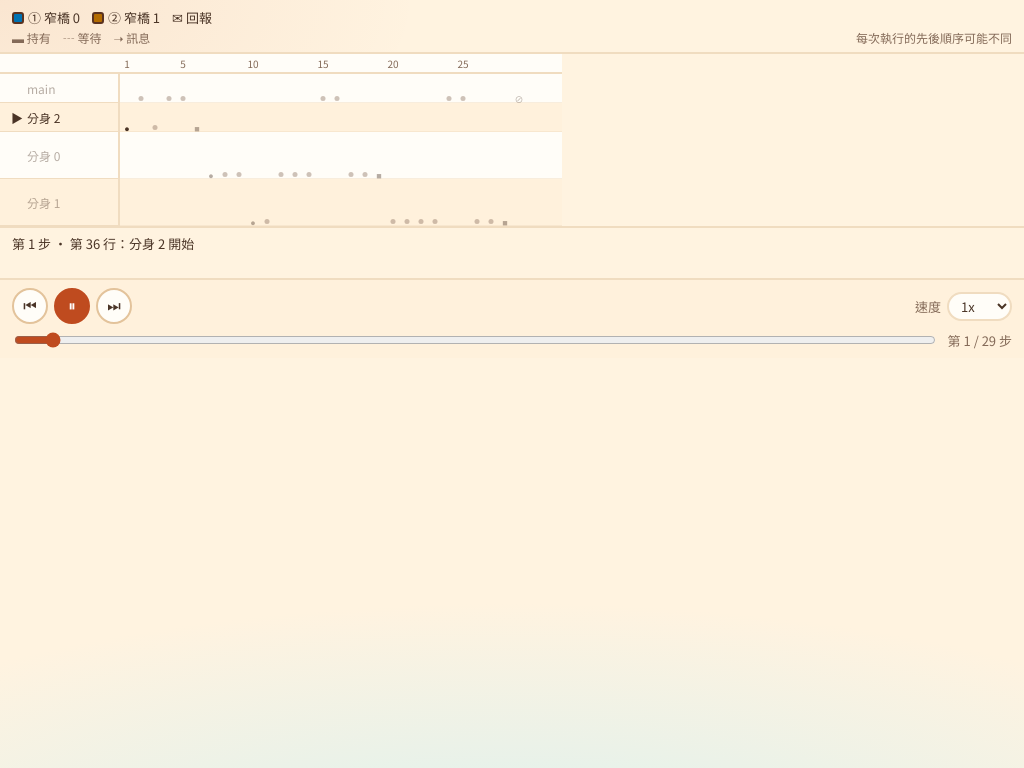
S2-3 TimelineView（ux §11） › 自動播放與播放控制 › 可視化區焦點時按 ArrowRight
The width and height of the screenshot is (1024, 768).
Click the button named "暫停": (72, 306) [54, 288, 90, 324]
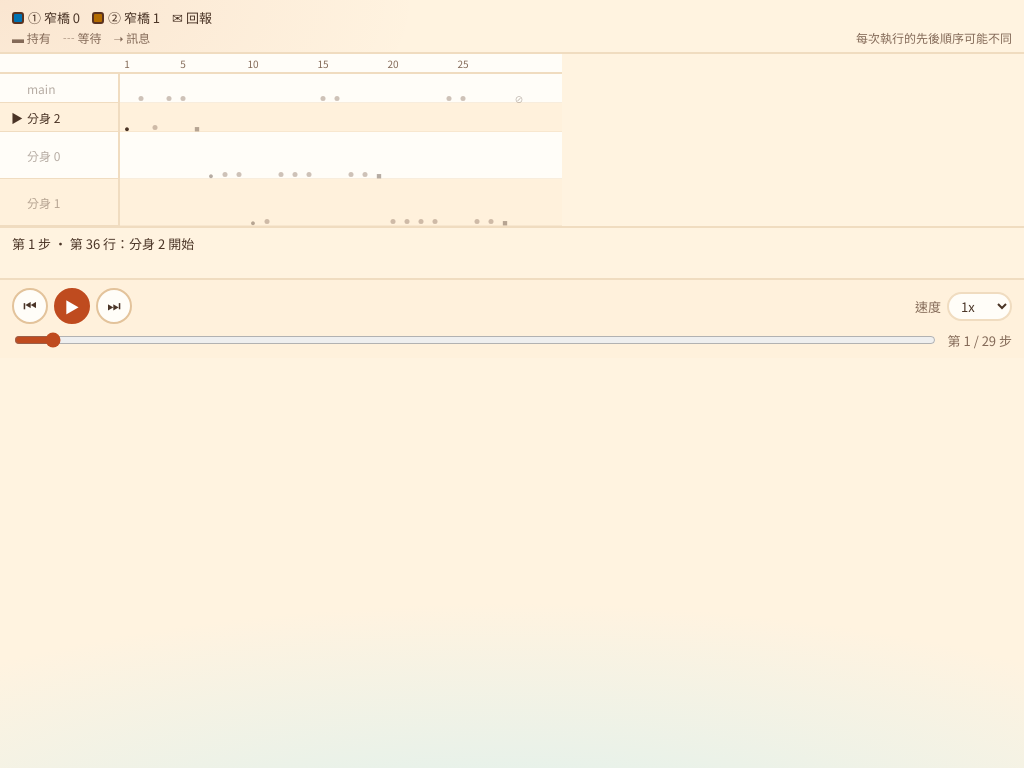
Set the slider named "進度" to "5": (178, 340) [14, 332, 936, 348]
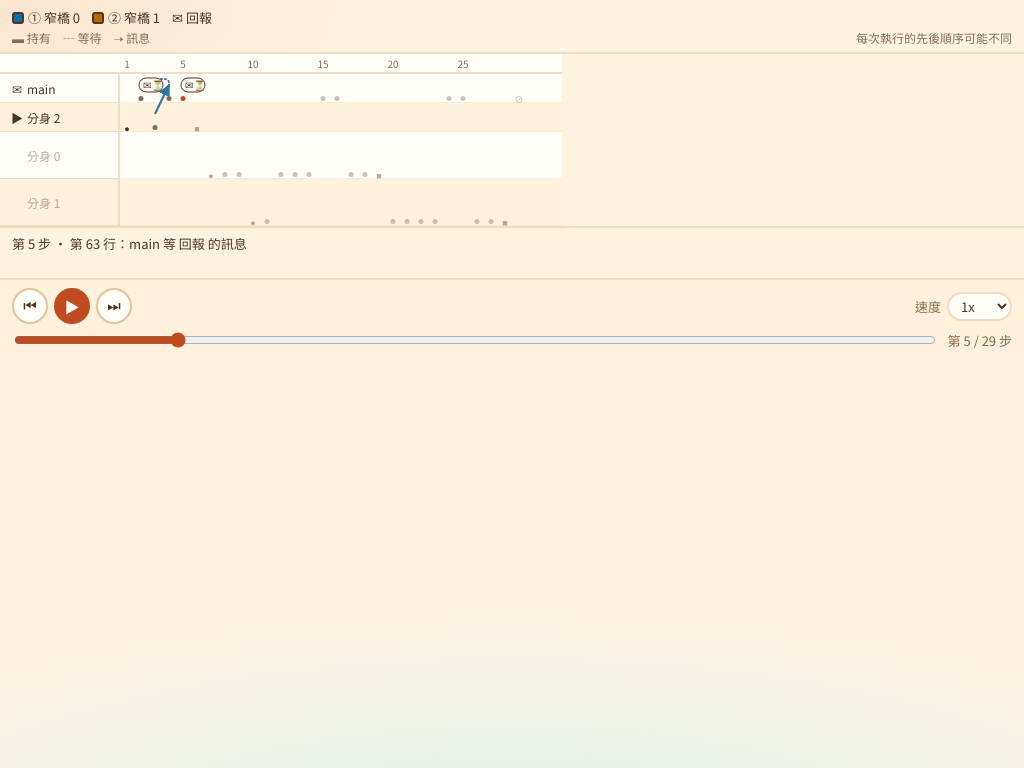
Press ArrowRight in the element with test id "timeline-view", box [0, 0, 1023, 358]
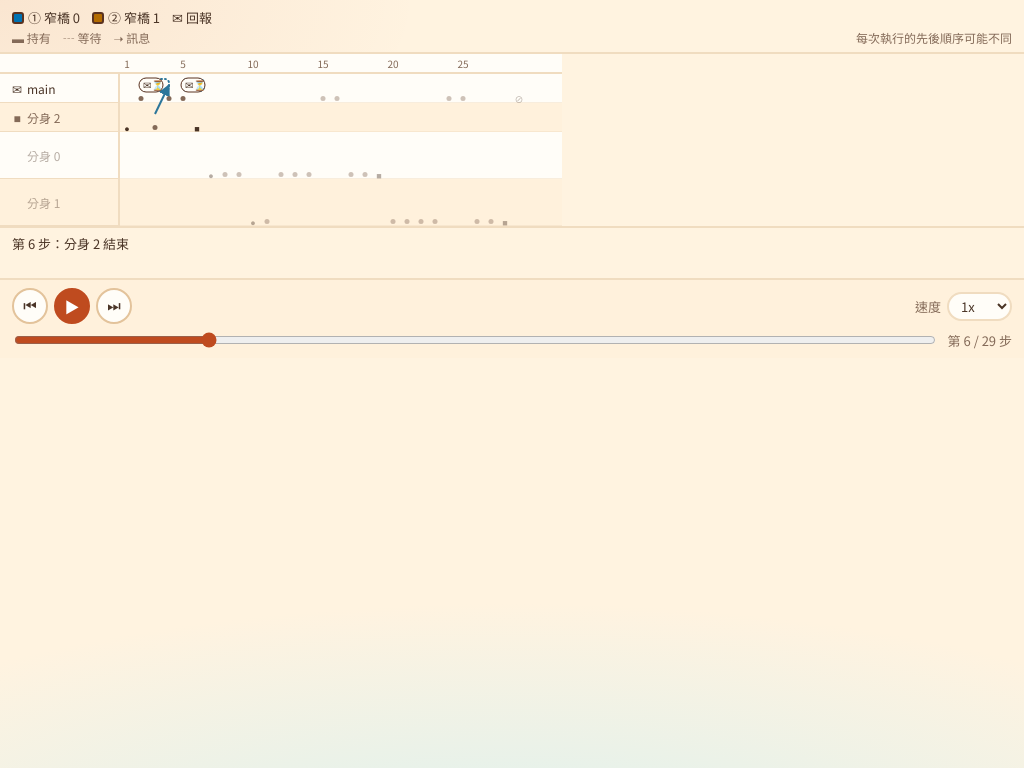
Result: the text with test id "step-label" reads "第 6 / 29 步" at [948, 330, 1012, 350]
